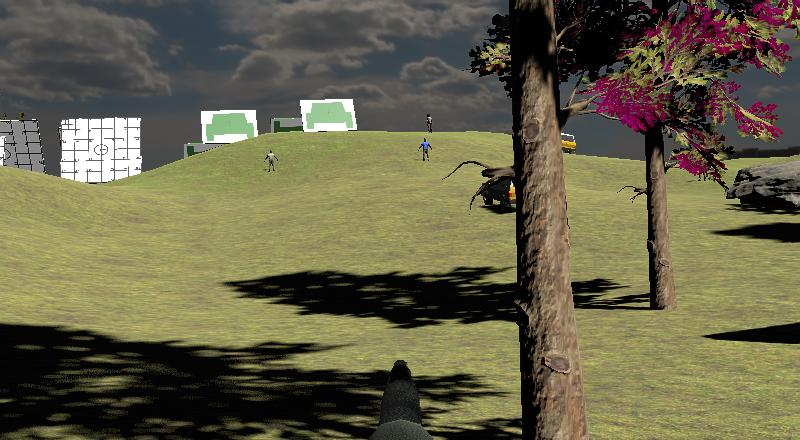Human: (416, 137, 434, 165), (263, 148, 281, 175), (424, 111, 436, 134), (424, 110, 435, 134)
car: (478, 173, 523, 213), (555, 130, 578, 156)
